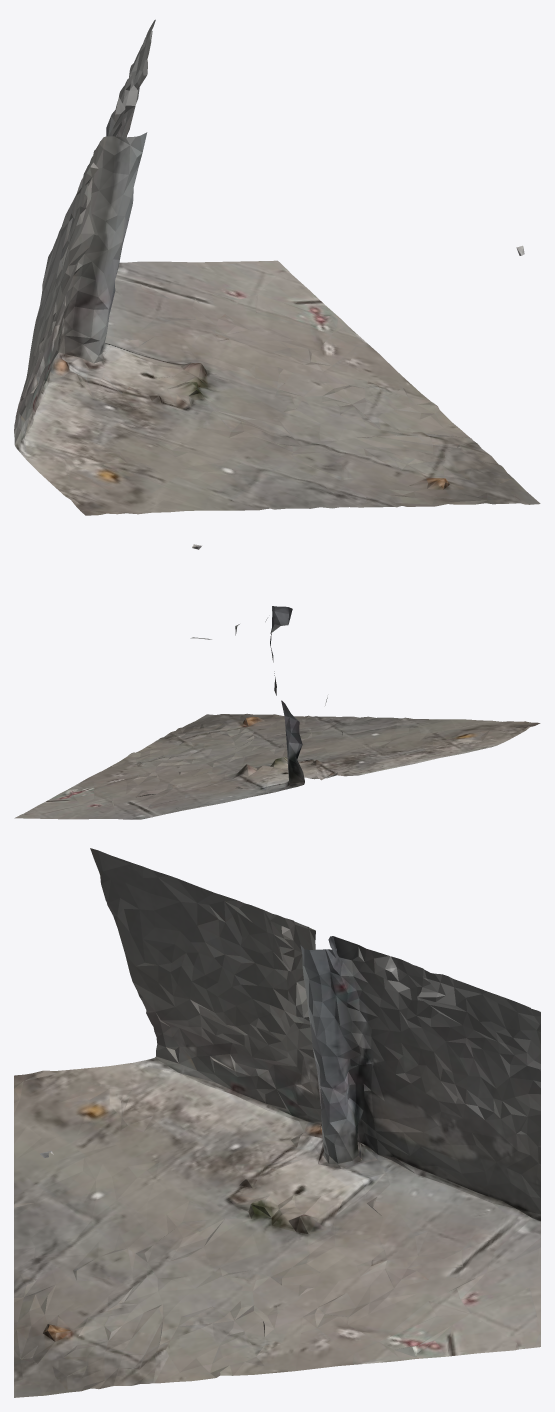
3 renders of one model, top to bottom at view 1: azimuth 30°, elevation 25°; view 2: azimuth 150°, elevation 25°; view 3: azimuth 270°, elevation 25°, orthographic. The views are drawn at different scales.
Size of the model in its own units: 1.67 by 1.15 by 1.67.
4 materials, 4 textured.
